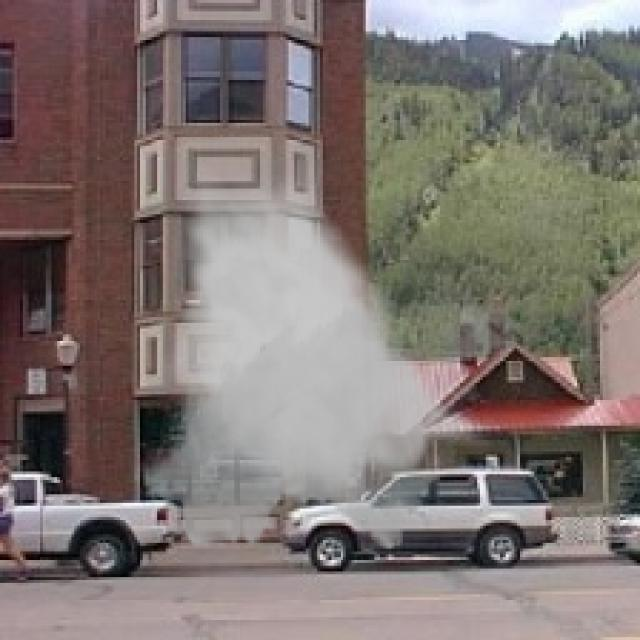Smoke: (131, 163, 526, 560)
